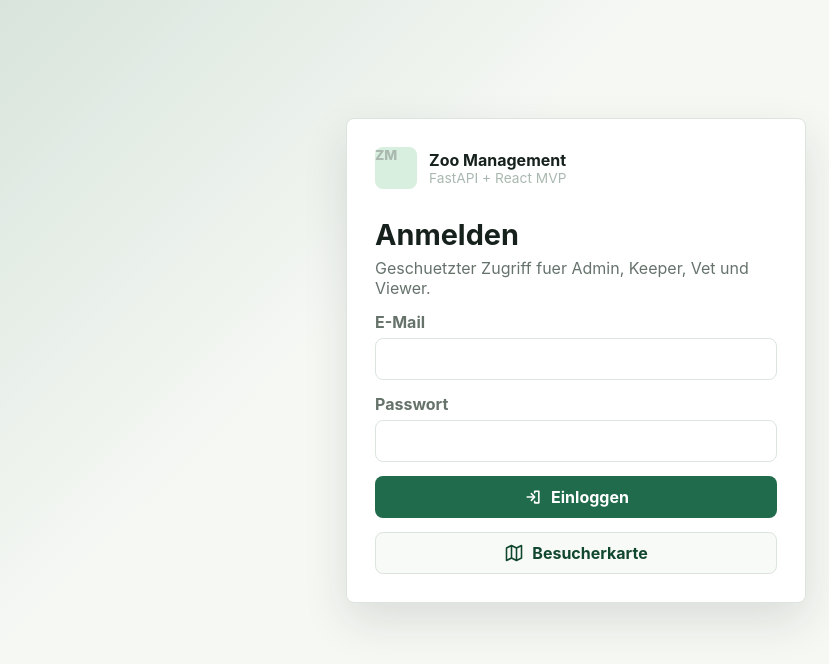
LoginScreen › shows the backend error message when login fails
Type "admin@example.test" into the field labelled "E-Mail" at (576,358), box left=375, top=338, right=777, bottom=380
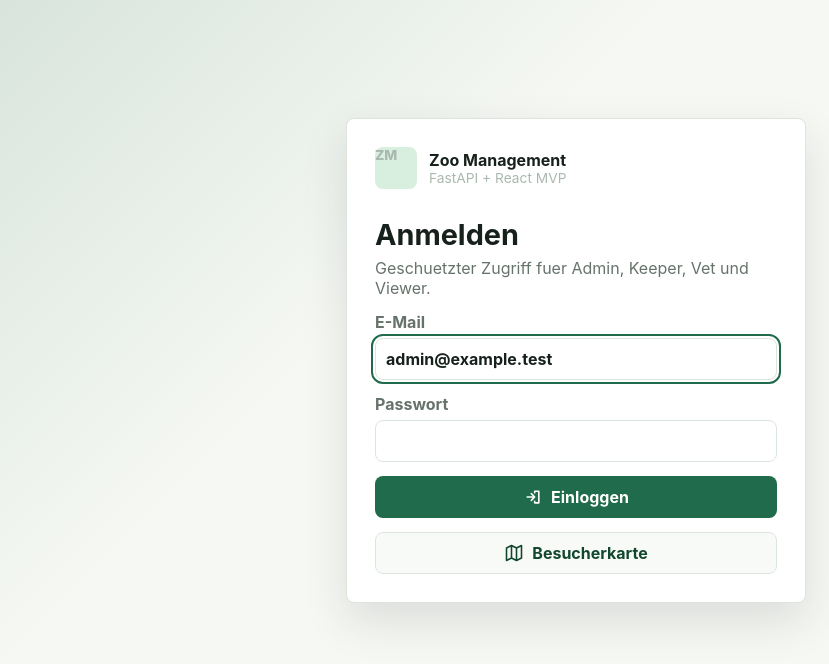
Type "Wrong12345!" into the password field labelled "Passwort" at (576,440), box left=375, top=420, right=777, bottom=462
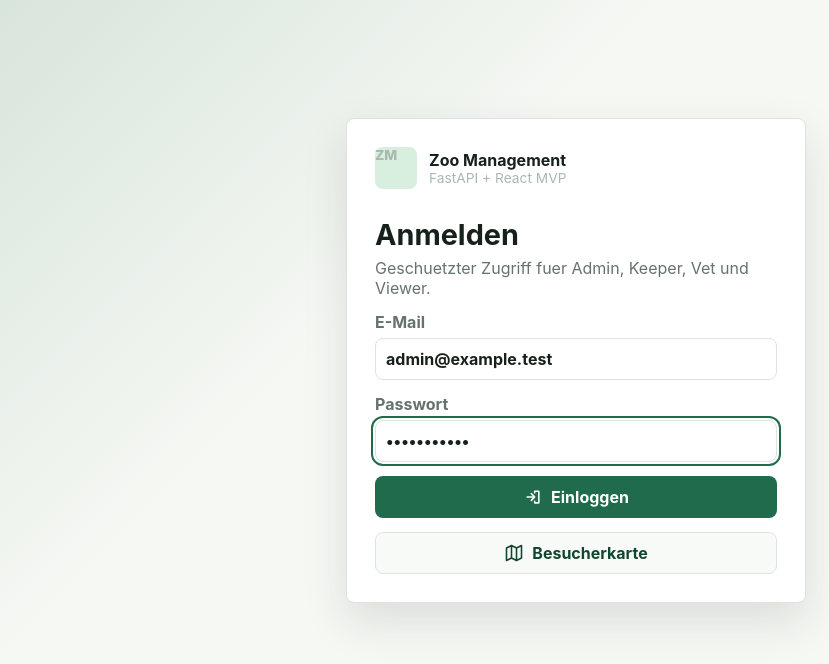
Click the button "Einloggen" at (576,496), box left=375, top=476, right=777, bottom=518
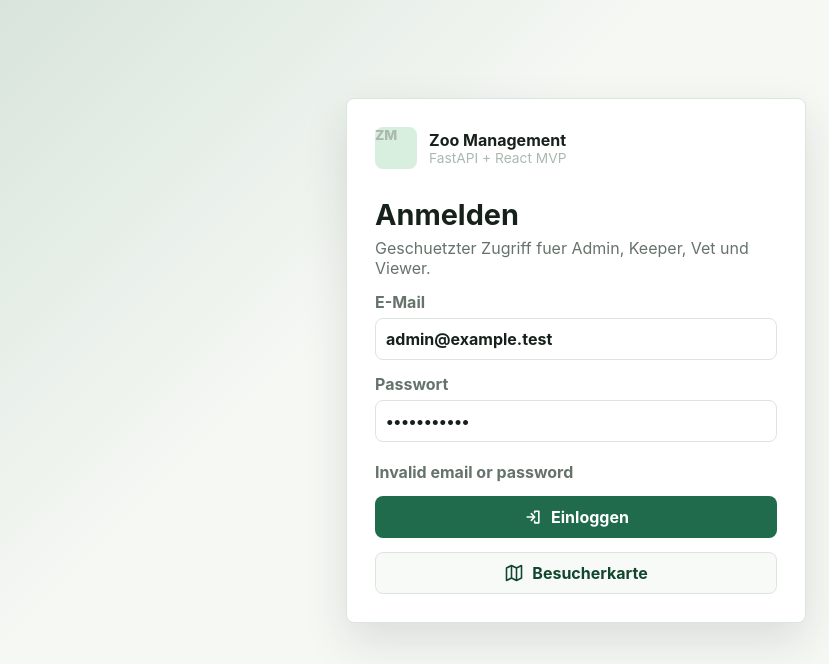
Expected: the text "Invalid email or password" is shown, left=375, top=462, right=573, bottom=482
